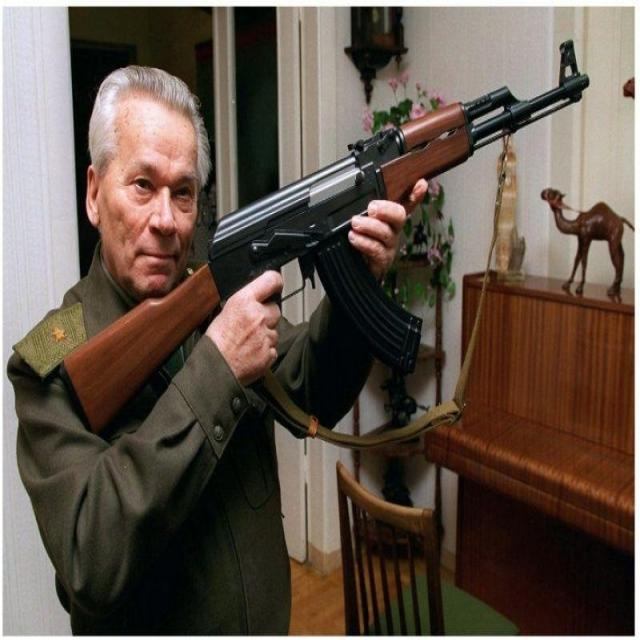ak: (61, 29, 594, 440)
